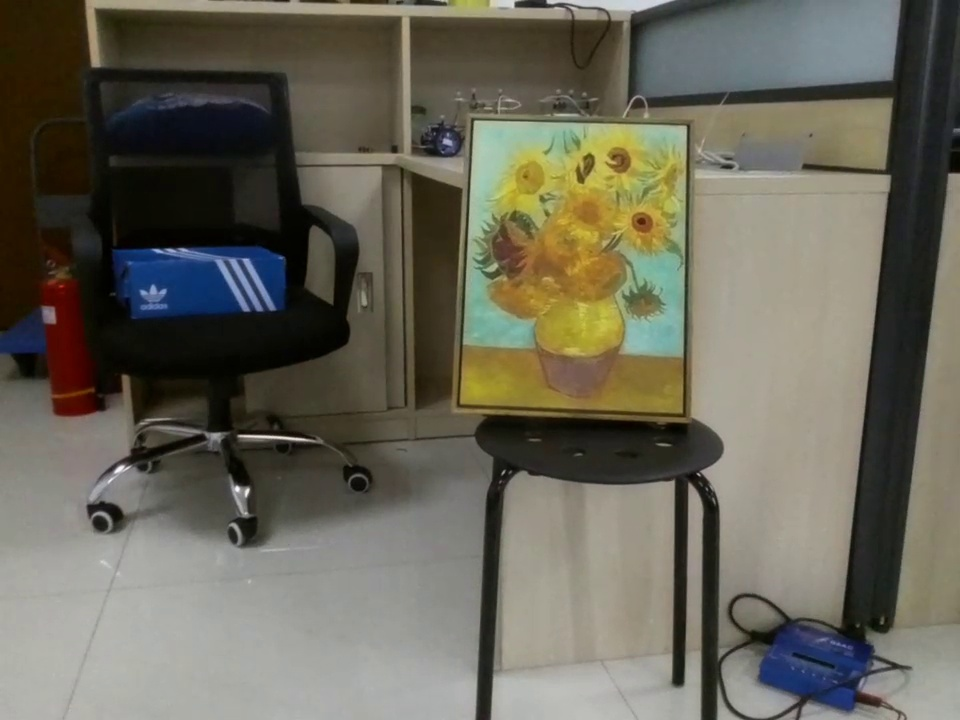painting: (454, 114, 701, 424)
